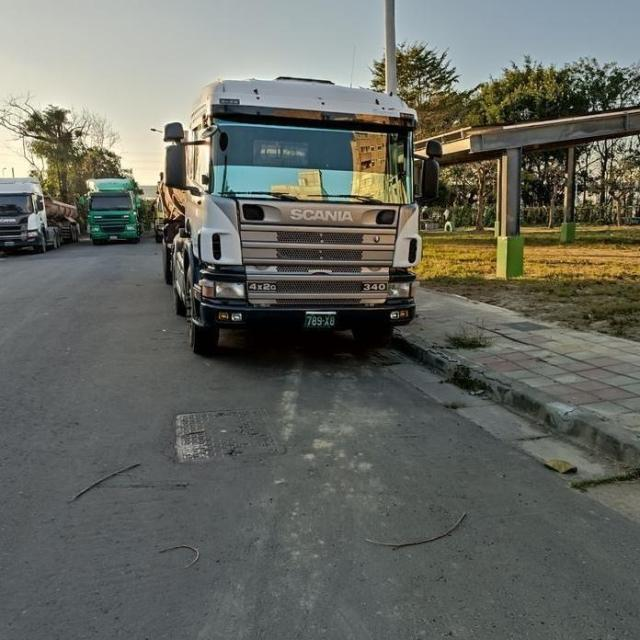GW: (302, 310, 336, 329)
